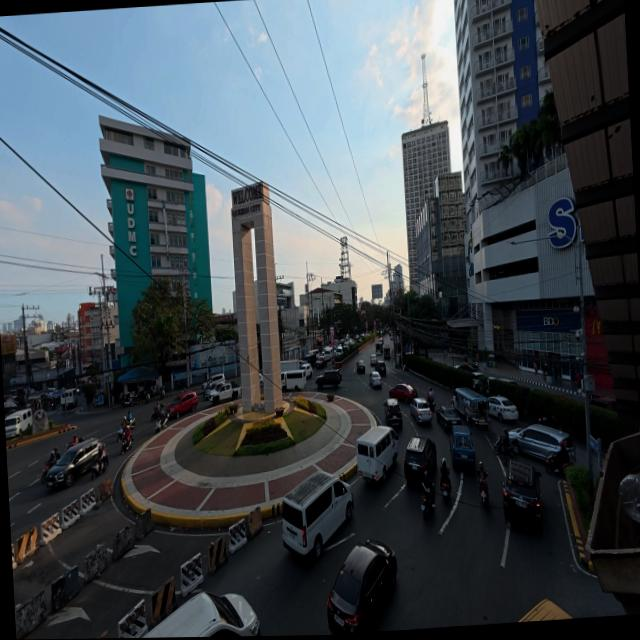car: (326, 536, 402, 635), (42, 436, 112, 491), (401, 433, 437, 487), (450, 424, 478, 473), (482, 394, 520, 424), (168, 390, 200, 418), (387, 381, 416, 405), (314, 368, 344, 390), (438, 406, 464, 429), (414, 398, 436, 424), (5, 417, 22, 439), (368, 370, 382, 390)
vans: (275, 471, 358, 567), (355, 426, 401, 487)
